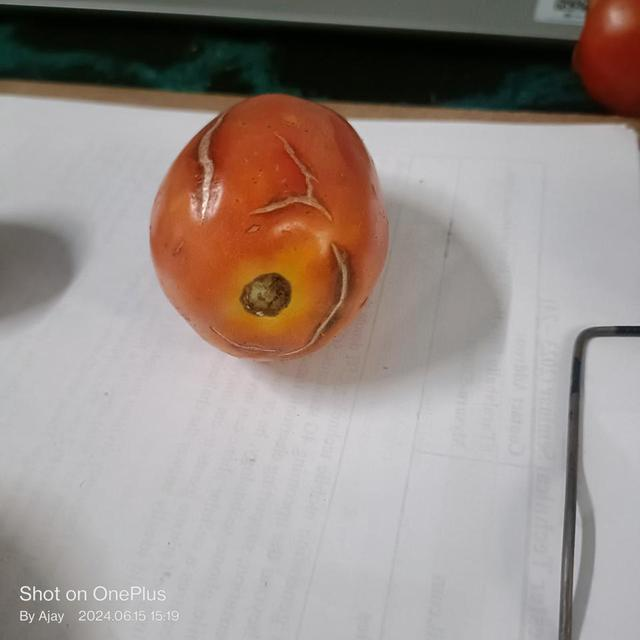Cracking Fruit: (133, 116, 206, 240)
